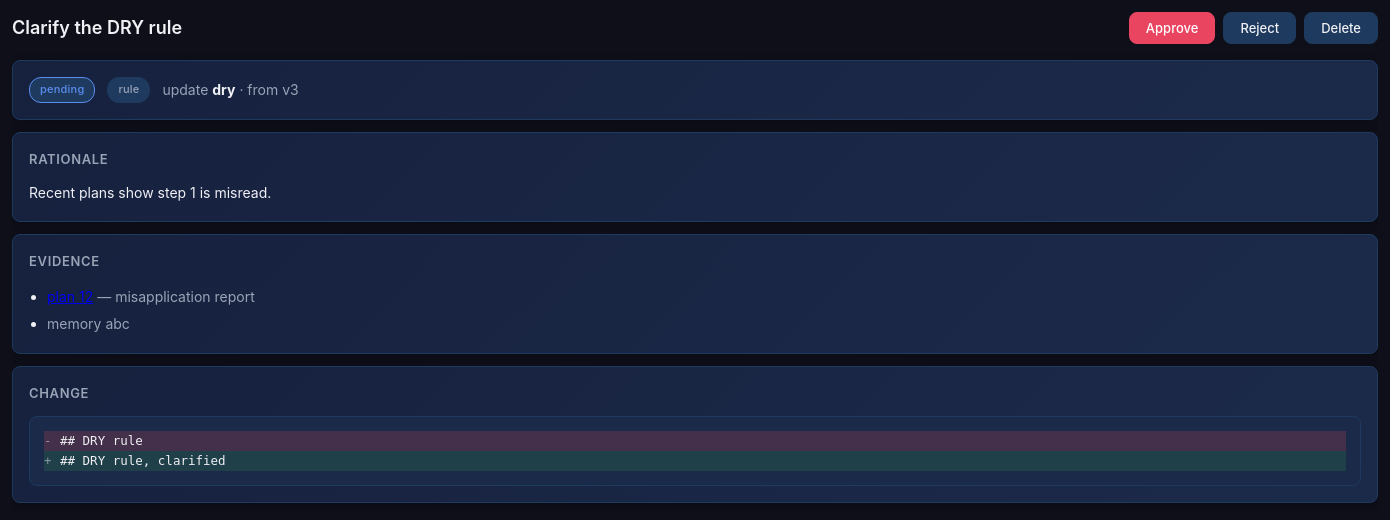
Scenario: ProposalDetailPage › rejects and reflects the new status
This screenshot has width=1390, height=520.
Click the button "Reject". click: (1260, 28)
box: [1223,12,1296,44]
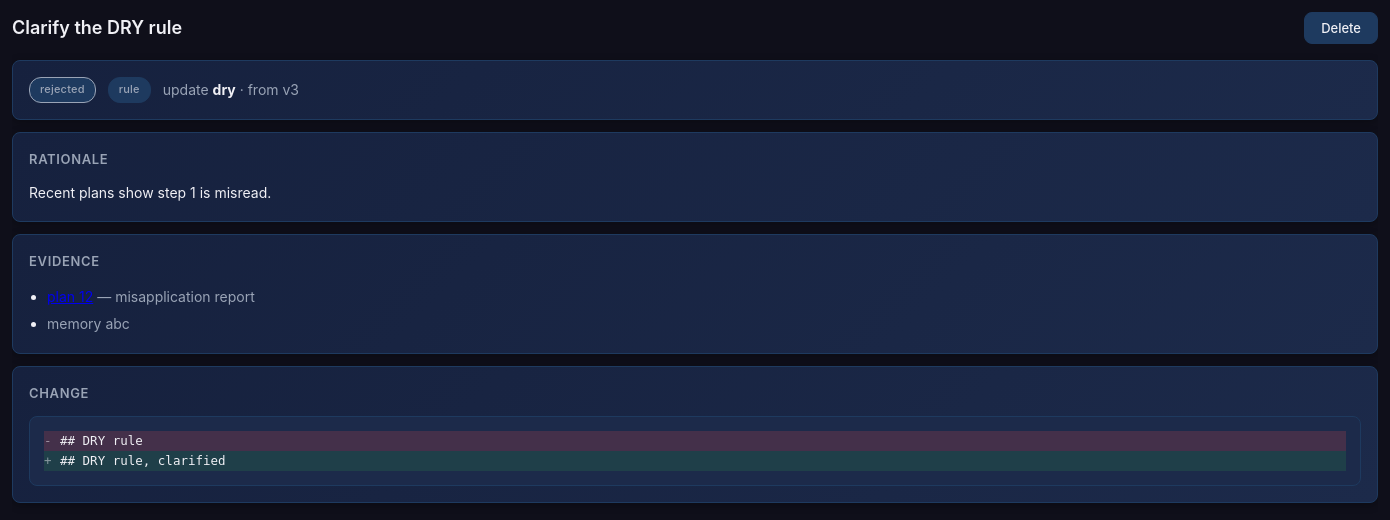
Expected: the text "rejected" is shown, [29,77,96,103]
